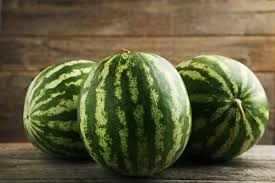watermelon: (80, 49, 191, 171), (24, 54, 106, 163), (190, 56, 269, 167)
